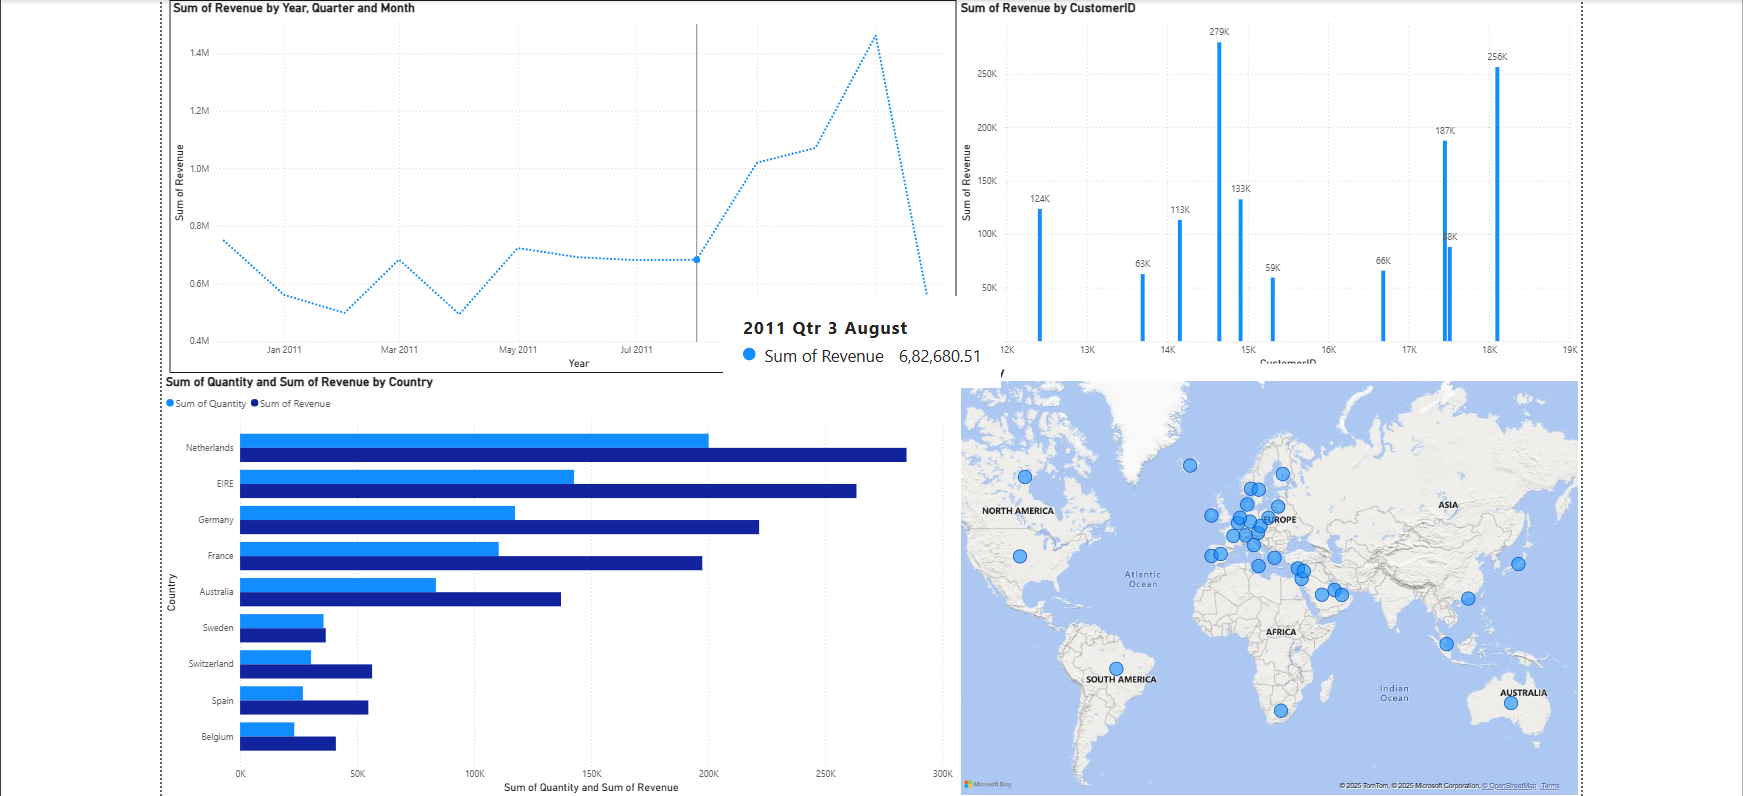

The page's visual inventory and layout, read from the dashboard file:
{"tool":"powerbi","page":{"name":"Page 1","canvas":[1920,1080],"ordinal":0},"visuals":[{"type":"lineChart","fields":{"Category":["Online Retail.InvoiceDate.Variation.Date Hierarchy.Year","Online Retail.InvoiceDate.Variation.Date Hierarchy.Quarter","Online Retail.InvoiceDate.Variation.Date Hierarchy.Month","Online Retail.InvoiceDate.Variation.Date Hierarchy.Day"],"Y":["Sum(Online Retail.Revenue)"]},"box":[10.1,0,1065.3,505.4],"z":0},{"type":"clusteredBarChart","fields":{"Category":["Online Retail.Country"],"Y":["Sum(Online Retail.Quantity)","Sum(Online Retail.Revenue)"]},"box":[0,505.7,1074.8,572.8],"z":1000},{"type":"columnChart","fields":{"Category":["Online Retail.CustomerID"],"Y":["Sum(Online Retail.Revenue)"]},"box":[1075.4,0,845,505.4],"z":2000},{"type":"map","fields":{"Category":["Online Retail.Country"]},"box":[1075.4,491.2,845,588.3],"z":3000}]}

Visuals, with their boxes on the page's 1920x1080 design canvas (x1, y1, x2, y2). These are canvas units, not pixel positions in the 1743x796 screenshot, which may show the page scaled, cropped or inside an application window:
lineChart - Online Retail.InvoiceDate.Variation.Date Hierarchy.Year x Online Retail.InvoiceDate.Variation.Date Hierarchy.Quarter: 10/0/1075/505
clusteredBarChart - Online Retail.Country x Sum(Online Retail.Quantity): 0/506/1075/1078
columnChart - Online Retail.CustomerID x Sum(Online Retail.Revenue): 1075/0/1920/505
map - Online Retail.Country: 1075/491/1920/1080
